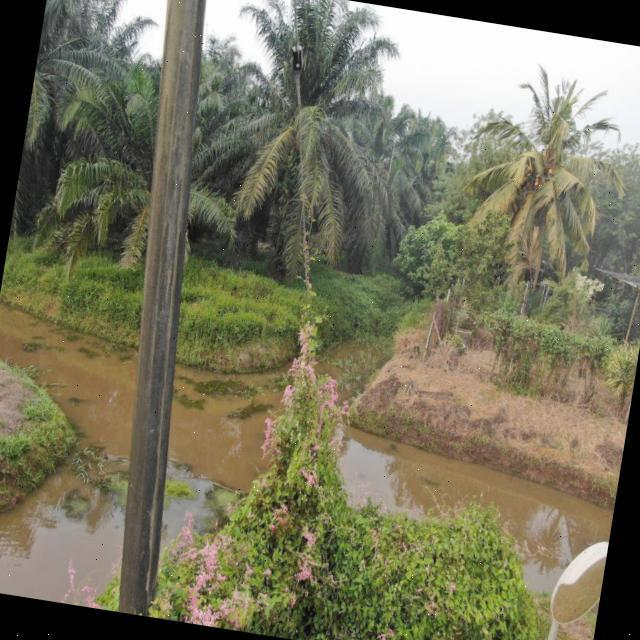critical vegetation: (252, 225, 387, 524)
